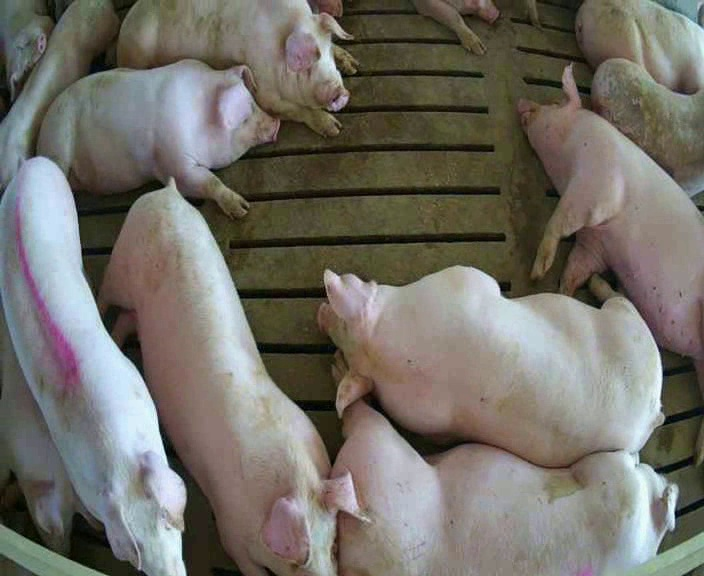pig: (96, 182, 370, 574), (318, 266, 662, 466), (37, 60, 279, 217), (118, 2, 359, 135), (0, 2, 118, 189), (591, 59, 703, 195), (575, 2, 703, 93)
